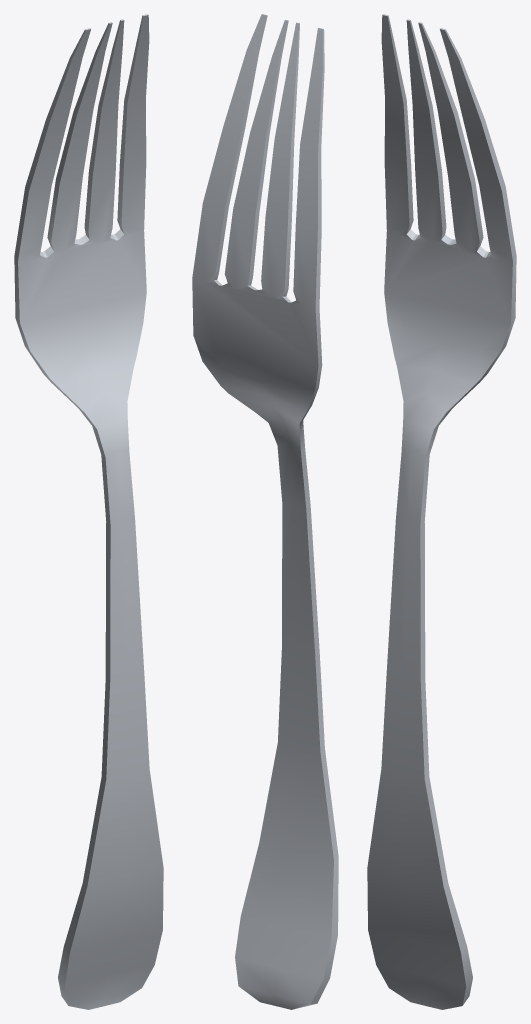
Rendered from cooking_assets_fork.glb.
3 renders of one model, left to right at view 1: azimuth 30°, elevation 25°; view 2: azimuth 150°, elevation 25°; view 3: azimuth 330°, elevation 25°, orthographic.
Visible parts, largest first — view 1: utensil_fork_Cube.026; view 2: utensil_fork_Cube.026; view 3: utensil_fork_Cube.026.
Part boxes in pixels (left/top/right/bottom): utensil_fork_Cube.026: left=14, top=14, right=163, bottom=1009; utensil_fork_Cube.026: left=192, top=14, right=338, bottom=1009; utensil_fork_Cube.026: left=367, top=14, right=516, bottom=1009.
Size of the model in its own units: 0.6545 by 4.87 by 0.451.
Materials: 1 (1 with a texture image).
